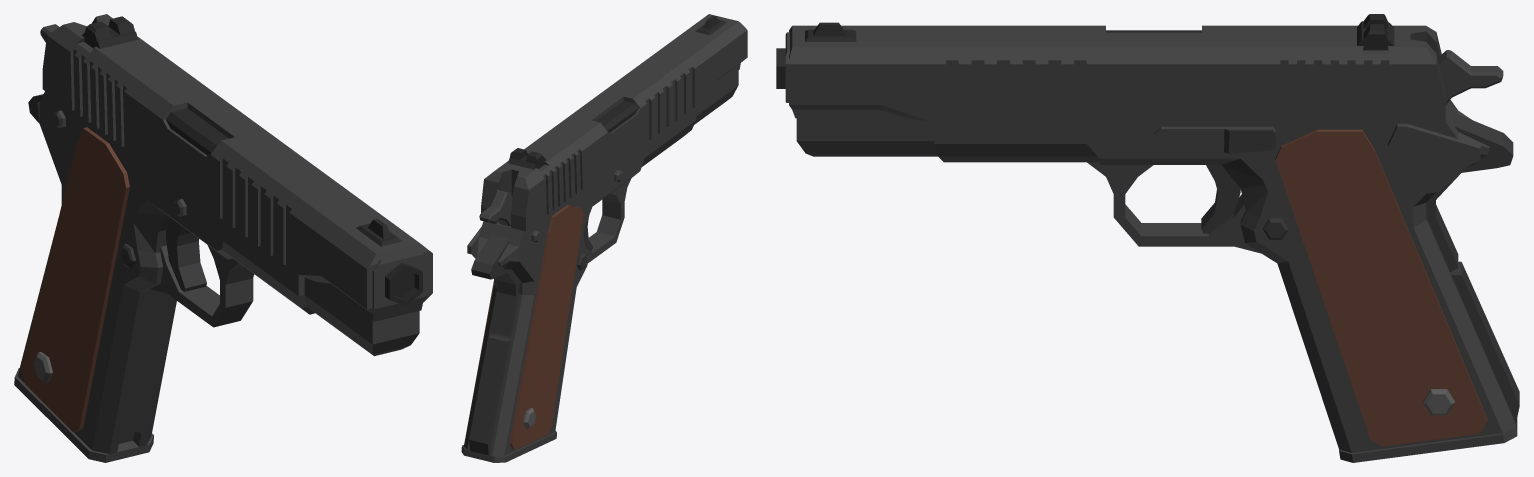
3 renders of one model, left to right at view 1: azimuth 30°, elevation 25°; view 2: azimuth 150°, elevation 25°; view 3: azimuth 270°, elevation 25°, orthographic. The views are drawn at different scales.
Parts seen in each view (by area): view 1: Pistol_E_Receiver, Pistol_E_BarrelGuard, Pistol_E_Trigger, Pistol_E_Mag, Pistol_E_Barrel; view 2: Pistol_E_Receiver, Pistol_E_BarrelGuard, Pistol_E_Bolt, Pistol_E_Mag; view 3: Pistol_E_Receiver, Pistol_E_BarrelGuard, Pistol_E_Mag, Pistol_E_Bolt, Pistol_E_Trigger.
Part boxes in pixels (left/top/right/bottom): Pistol_E_Receiver: left=17, top=91, right=314, bottom=453; Pistol_E_BarrelGuard: left=42, top=14, right=432, bottom=356; Pistol_E_Trigger: left=166, top=219, right=206, bottom=291; Pistol_E_Mag: left=14, top=368, right=153, bottom=462; Pistol_E_Barrel: left=385, top=262, right=422, bottom=305; Pistol_E_Receiver: left=464, top=107, right=696, bottom=456; Pistol_E_BarrelGuard: left=481, top=14, right=747, bottom=231; Pistol_E_Bolt: left=479, top=190, right=512, bottom=226; Pistol_E_Mag: left=461, top=430, right=556, bottom=462; Pistol_E_Receiver: left=934, top=99, right=1519, bottom=452; Pistol_E_BarrelGuard: left=785, top=14, right=1445, bottom=156; Pistol_E_Mag: left=1339, top=418, right=1517, bottom=462; Pistol_E_Bolt: left=1437, top=50, right=1503, bottom=104; Pistol_E_Trigger: left=1201, top=165, right=1240, bottom=233.
Bounding box in the file's own units: 0.0355 × 0.1837 × 0.2903.
6 materials, 6 textured.
